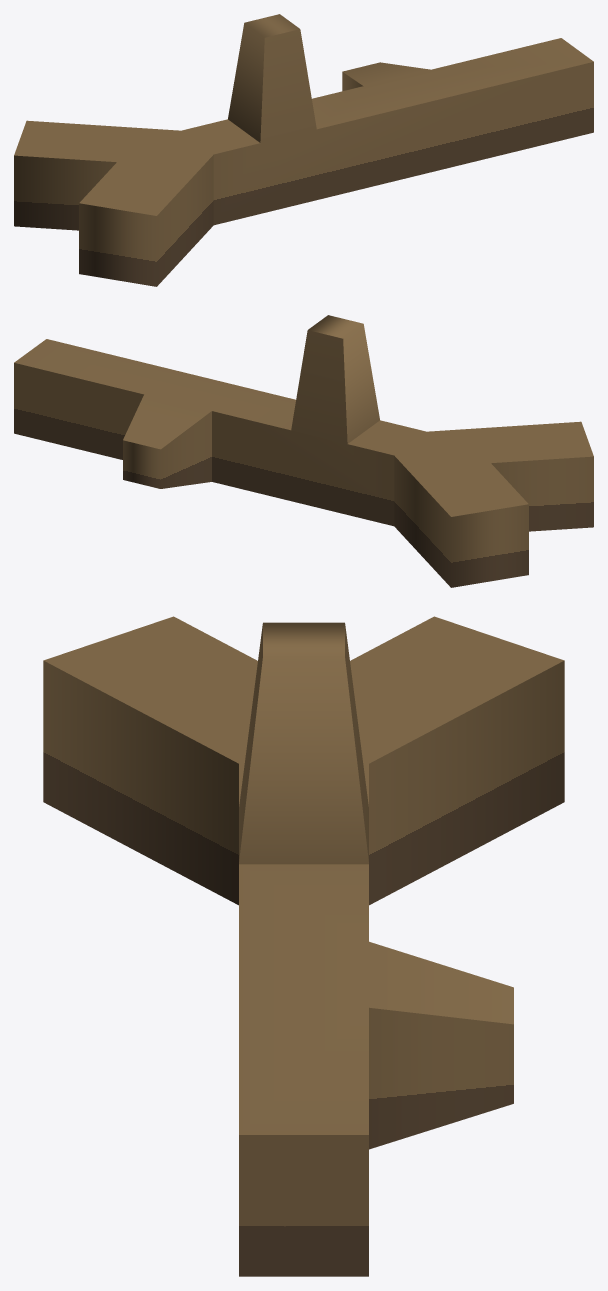
Rendered from fallen-wood-loose-branches.glb.
3 views of the same model, one above another, from view 1: azimuth 30°, elevation 25°; view 2: azimuth 150°, elevation 25°; view 3: azimuth 270°, elevation 25° (orthographic). The views are drawn at different scales.
Parts seen in each view (by area): view 1: fallen-wood-loose-branches runtime mesh; view 2: fallen-wood-loose-branches runtime mesh; view 3: fallen-wood-loose-branches runtime mesh.
Boxes of the visible parts, x1,y1,x2,y2 form: fallen-wood-loose-branches runtime mesh: (14, 14, 593, 286); fallen-wood-loose-branches runtime mesh: (14, 315, 593, 587); fallen-wood-loose-branches runtime mesh: (43, 616, 564, 1276).
Bounding box in the file's own units: 0.7881 × 0.24 × 0.3348.
1 material, 1 textured.
